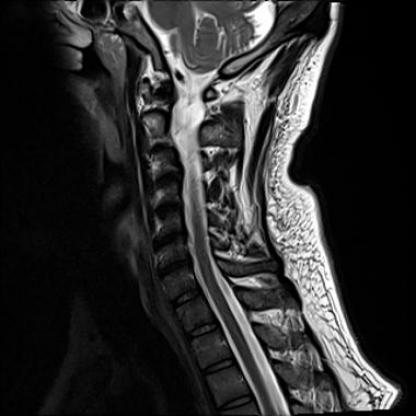Disc Herniationrotation: (147, 170, 184, 189), (144, 201, 185, 217), (151, 232, 188, 247), (156, 261, 190, 276)
Osteophytesrotation: (147, 170, 184, 189), (144, 201, 185, 217), (151, 233, 188, 247), (157, 261, 191, 276)
